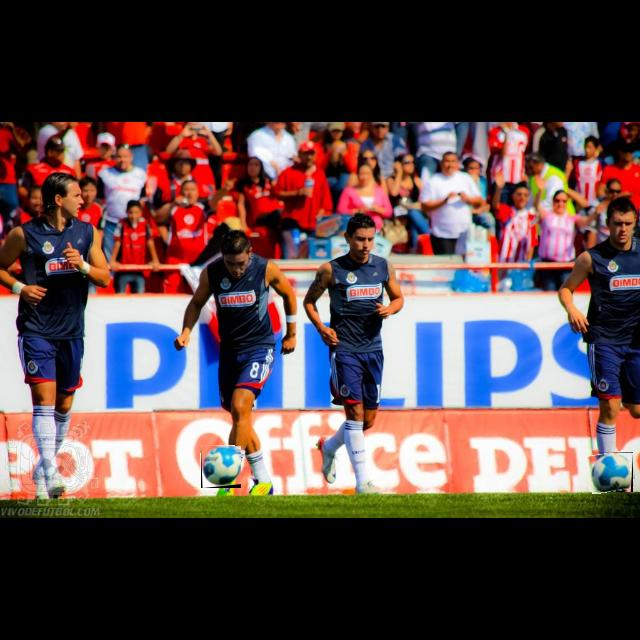Football: (589, 452, 633, 492), (201, 446, 241, 488)
